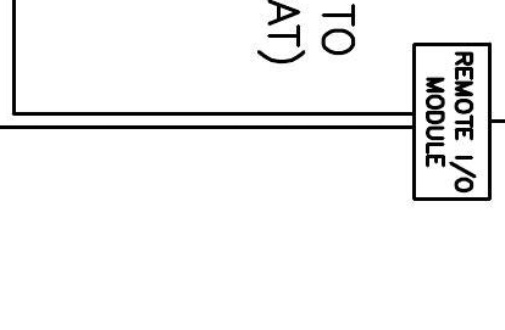remote_io_module: (412, 42, 492, 201)
